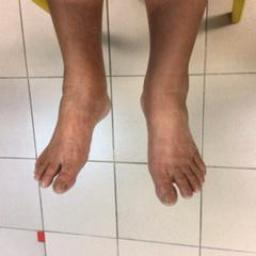Dorsal View -Both Feet-: (20, 28, 233, 218)
